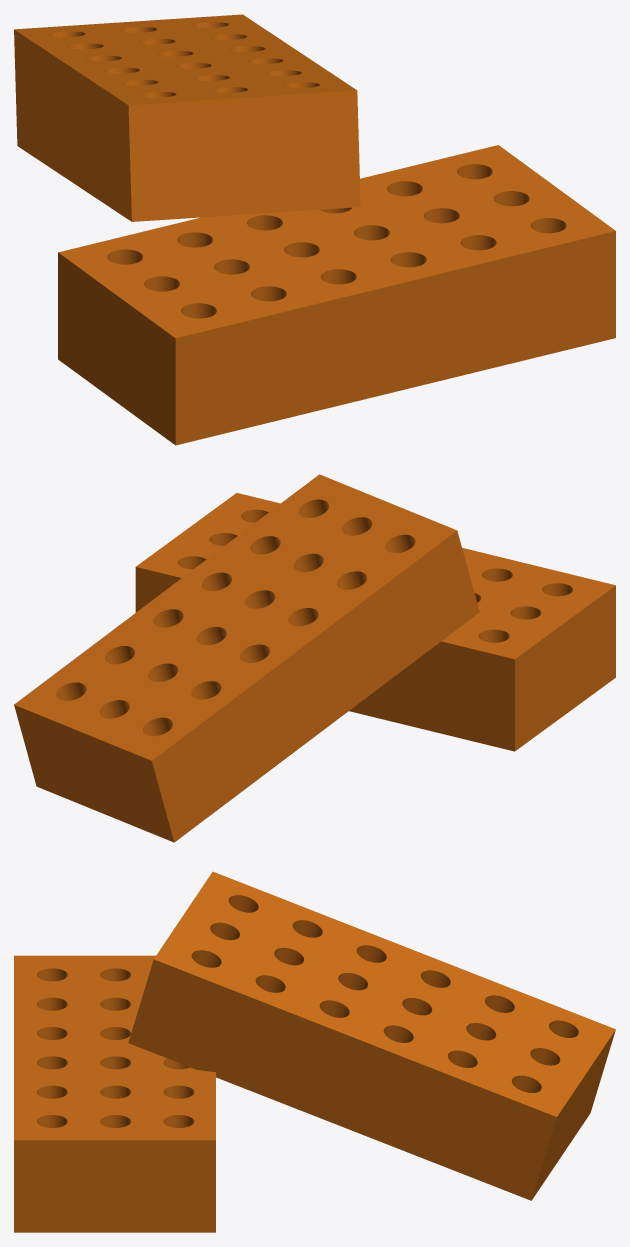
Rendered from Bricks.fbx.
The picture shows the model from 3 angles, top to bottom: view 1: azimuth 30°, elevation 25°; view 2: azimuth 150°, elevation 25°; view 3: azimuth 270°, elevation 25°; orthographic projection. The views are drawn at different scales.
Parts seen in each view (by area): view 1: Würfel, Würfel_2; view 2: Würfel_2, Würfel; view 3: Würfel_2, Würfel.
Part boxes in pixels (<box>): Würfel: <box>58,145,615,445</box>; Würfel_2: <box>14,14,360,221</box>; Würfel_2: <box>14,474,479,842</box>; Würfel: <box>135,493,615,751</box>; Würfel_2: <box>128,871,615,1200</box>; Würfel: <box>14,955,215,1232</box>.
Size of the model in its own units: 555 by 288 by 765.
